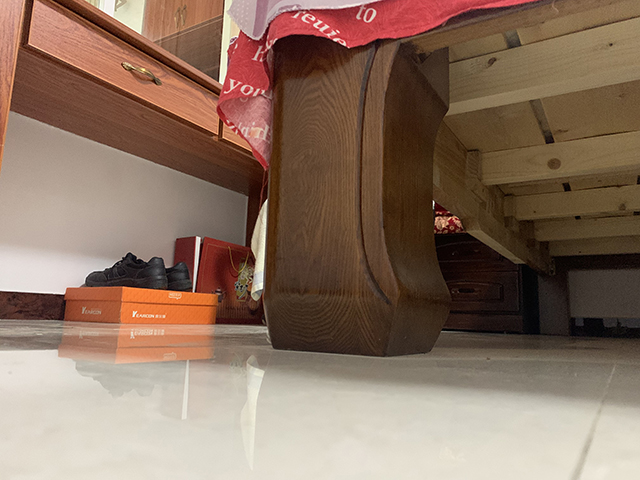bed: (216, 1, 640, 357)
cabinet: (434, 230, 539, 334)
